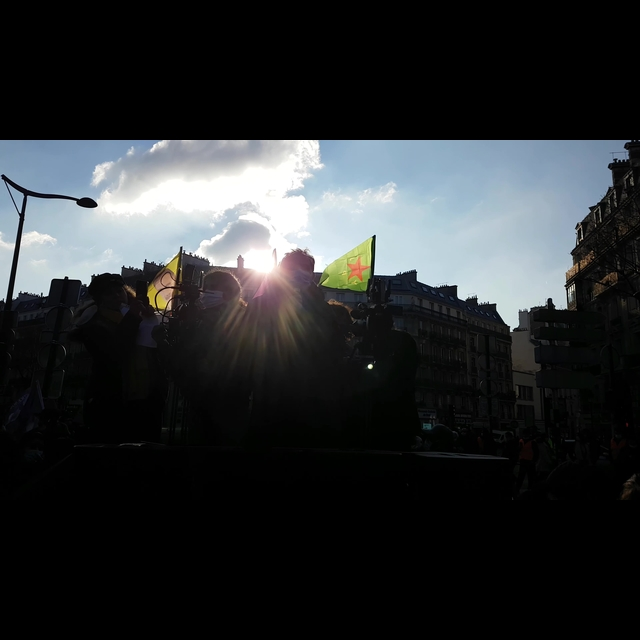YPJ: (324, 237, 388, 295)
